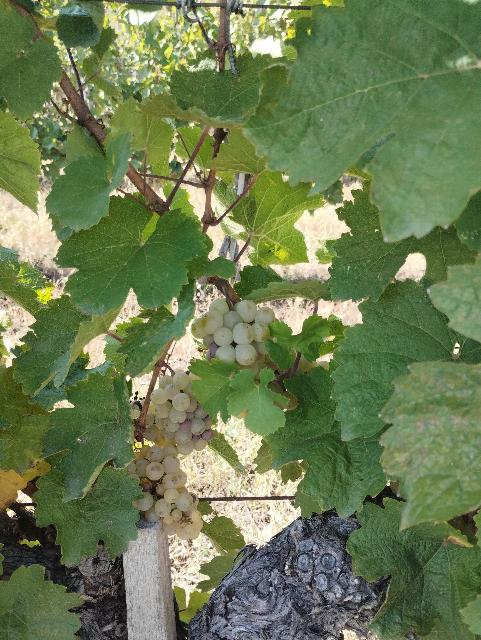grapes: (126, 444, 204, 540), (190, 299, 276, 380), (150, 371, 214, 458)
